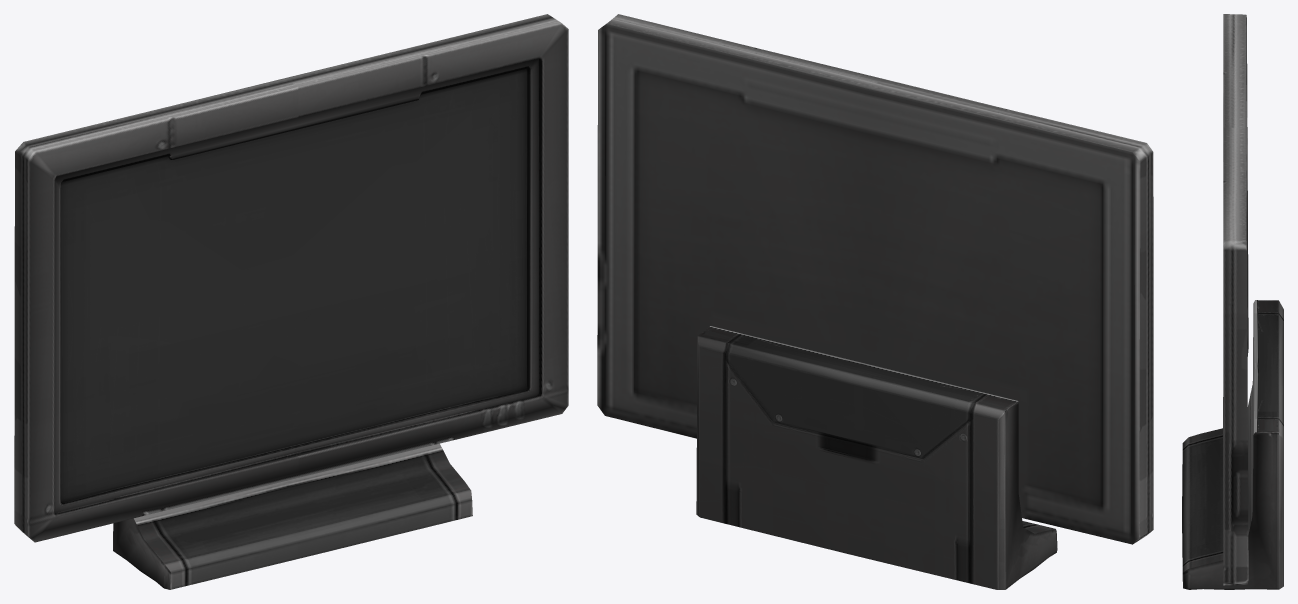
File: ComputerScreen.fbx
3 views of the same model, side by side, from view 1: azimuth 30°, elevation 25°; view 2: azimuth 150°, elevation 25°; view 3: azimuth 270°, elevation 25° (orthographic). The views are drawn at different scales.
Visible parts, largest first — view 1: low_ecran:polySurface1; view 2: low_ecran:polySurface1; view 3: low_ecran:polySurface1.
Boxes of the visible parts, x1,y1,x2,y2 form: low_ecran:polySurface1: (14,14,568,589); low_ecran:polySurface1: (597,14,1153,589); low_ecran:polySurface1: (1182,14,1283,589).
Bounding box in the file's own units: 120 × 95.51 × 22.27.
